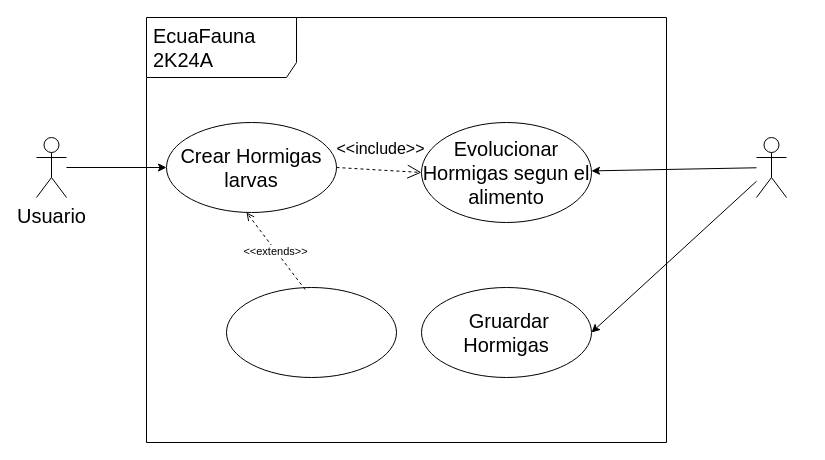
Some shapes in this 825 by 460 pixel diagram are drawn without their labels. The centre of each missing label's shape, as x and y in pixels:
"Eliminar Hormigas" goes at [311,332].
"Sistema" goes at [771,167].
